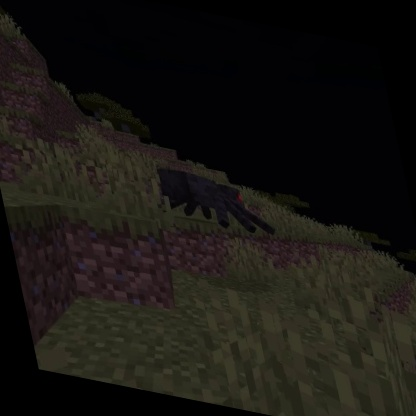spider: (151, 162, 281, 243)
